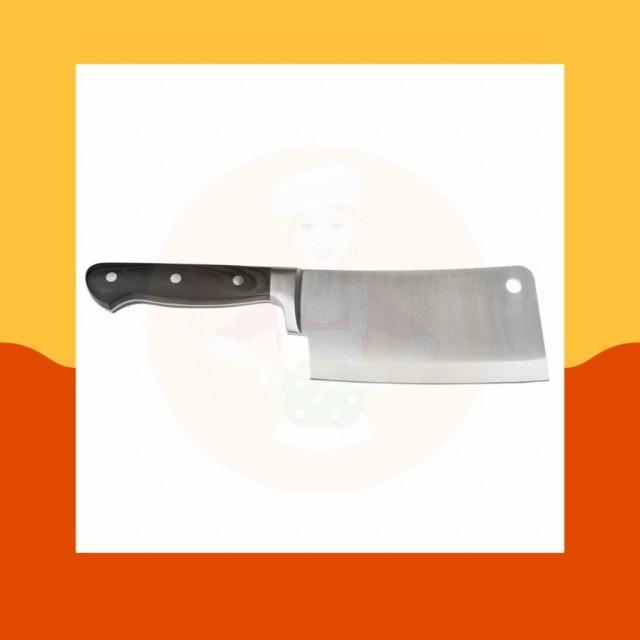Pisau: (81, 257, 558, 389)
